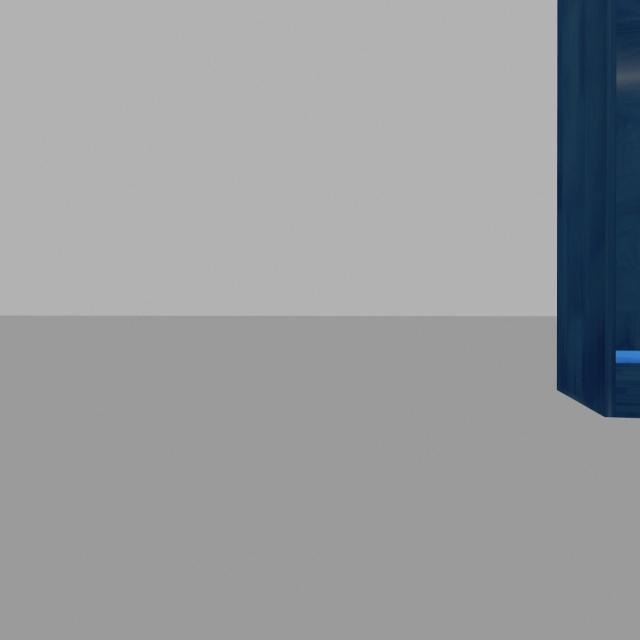shelf: (546, 0, 640, 440)
